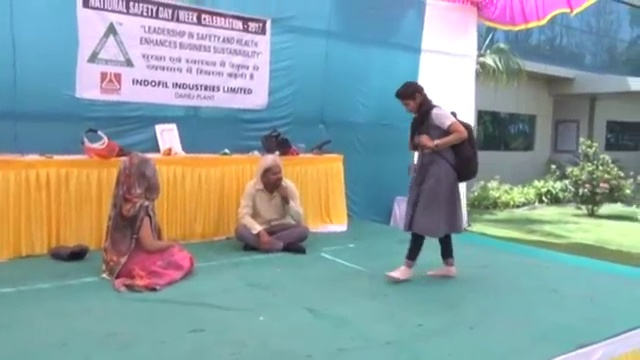helmet_off: (114, 154, 162, 201), (396, 81, 426, 116), (258, 156, 283, 190)
person: (384, 82, 481, 283), (99, 153, 195, 293), (235, 155, 310, 253)
